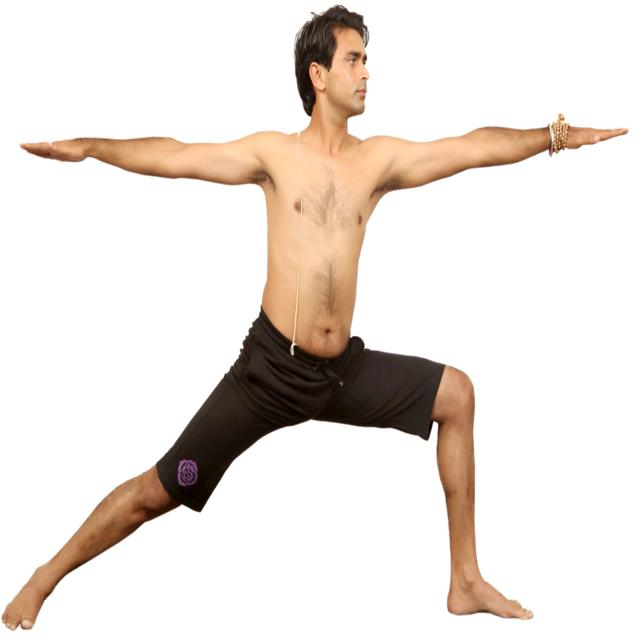Warrior_II: (1, 7, 627, 634)
